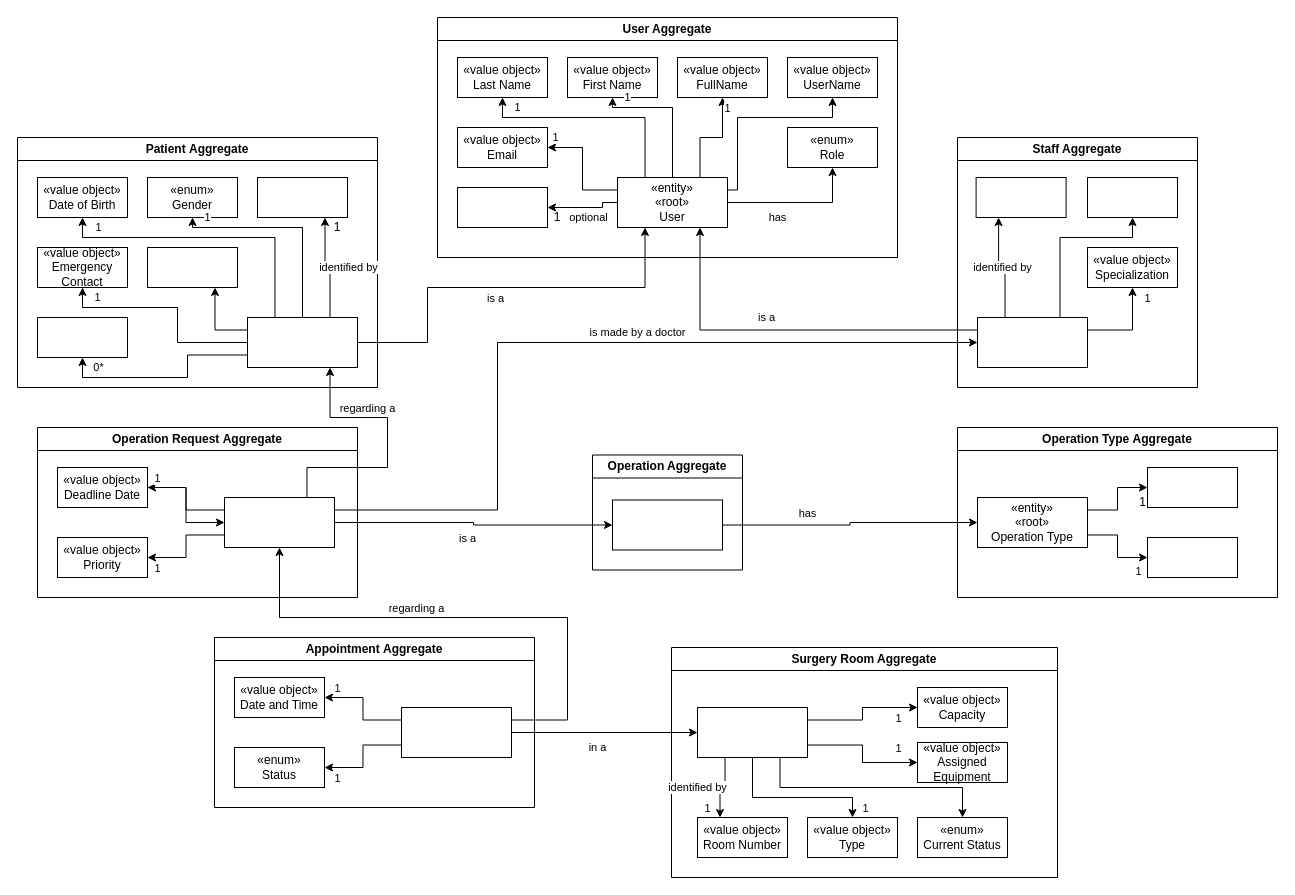
The diagram is 1295 pixels wide and 895 high, and some of its shapes have lost their labels. Here are the shapes that lost their labels. From the top down, the centre of each, then its label:
At point 302,197: "«value object» Medical Record Number".
At point 502,207: "«value object» Phone Number".
At point 1020,197: "«value object» License Number".
At point 1132,197: "«value object» Availability Slots".
At point 192,267: "«value object» Appointment History".
At point 82,337: "«value object» Medical Conditions".
At point 302,342: "«entity» «root» Patient".
At point 1032,342: "«entity» «root» Staff".
At point 1192,487: "«value object» Name".
At point 279,522: "«entity» «root» Operation Request".
At point 667,524: "«entity» «root» Operation".
At point 1192,557: "«value object» Estimated Duration".
At point 456,732: "«entity» «root» Appoin tment".
At point 752,732: "«entity» «root» Surgery Room".
